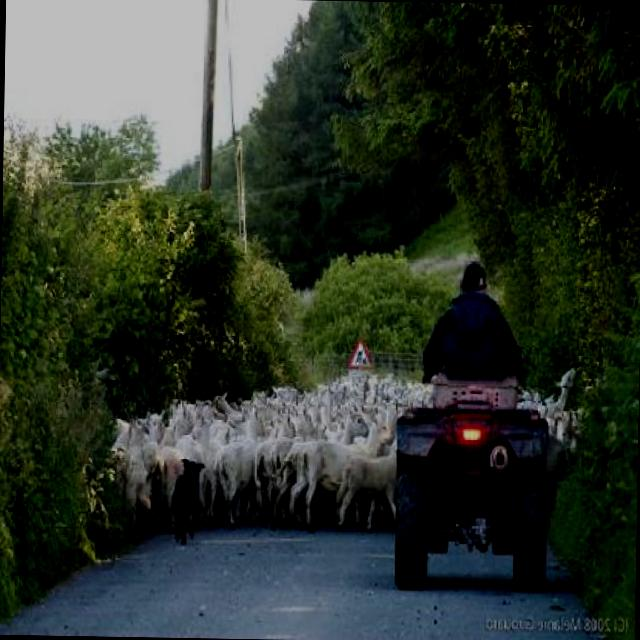Person: (422, 258, 526, 378)
